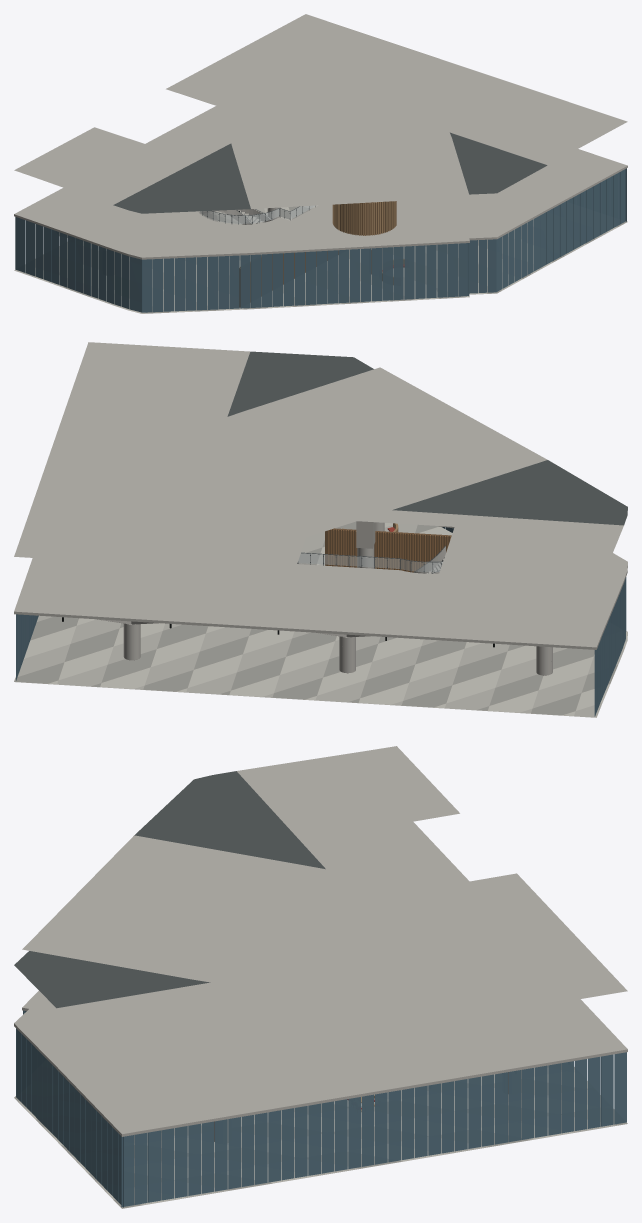
Rendered from mar-interior-9d1561f4bddf.glb.
The picture shows the model from 3 angles, top to bottom: view 1: azimuth 30°, elevation 25°; view 2: azimuth 150°, elevation 25°; view 3: azimuth 270°, elevation 25°; orthographic projection. The views are drawn at different scales.
Parts seen in each view (by area): view 1: MAR.001; view 2: MAR.001; view 3: MAR.001.
Boxes of the visible parts, <box> form: MAR.001: <box>14,14,627,313</box>; MAR.001: <box>14,342,627,717</box>; MAR.001: <box>14,746,627,1208</box>.
Bounding box in the file's own units: 67.69 × 12.7 × 53.21.
